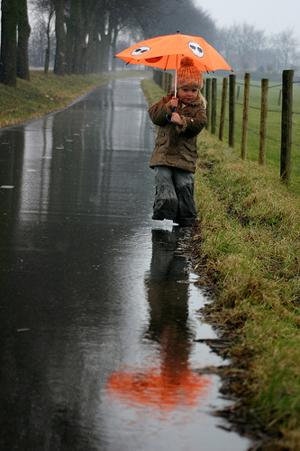person: (149, 58, 208, 223)
